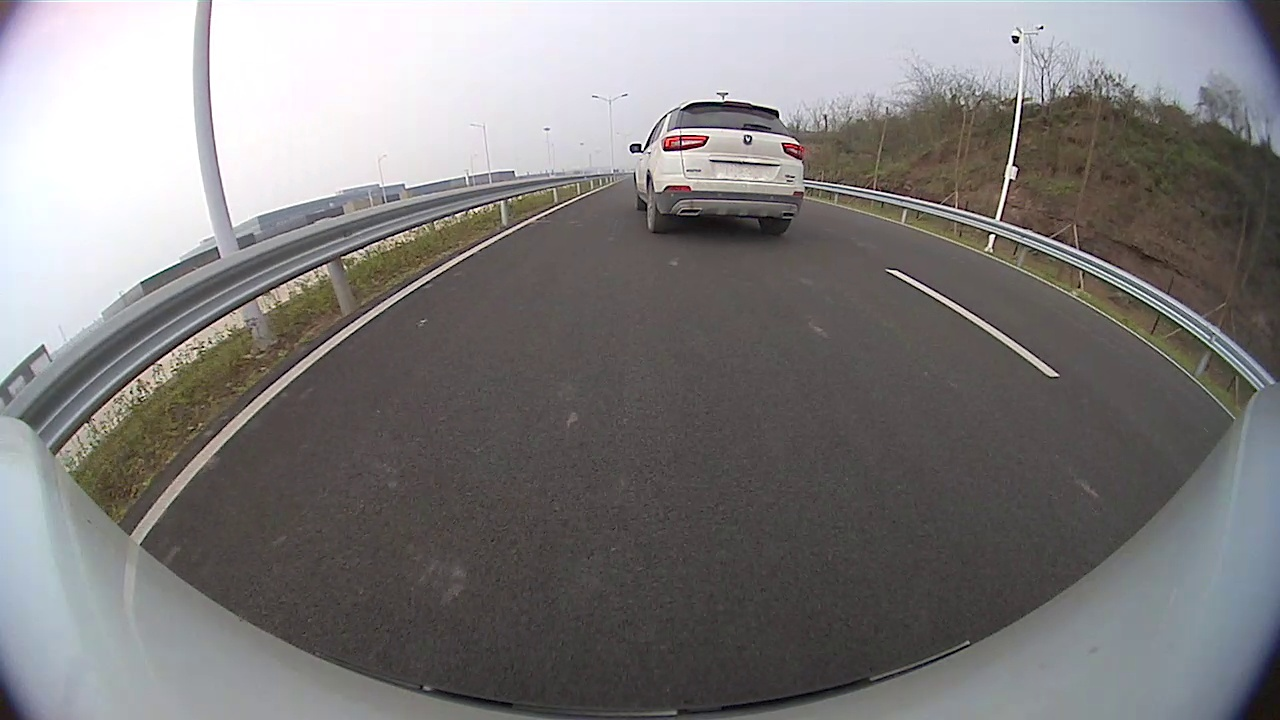car: (629, 100, 803, 235)
rear: (647, 176, 672, 236)
